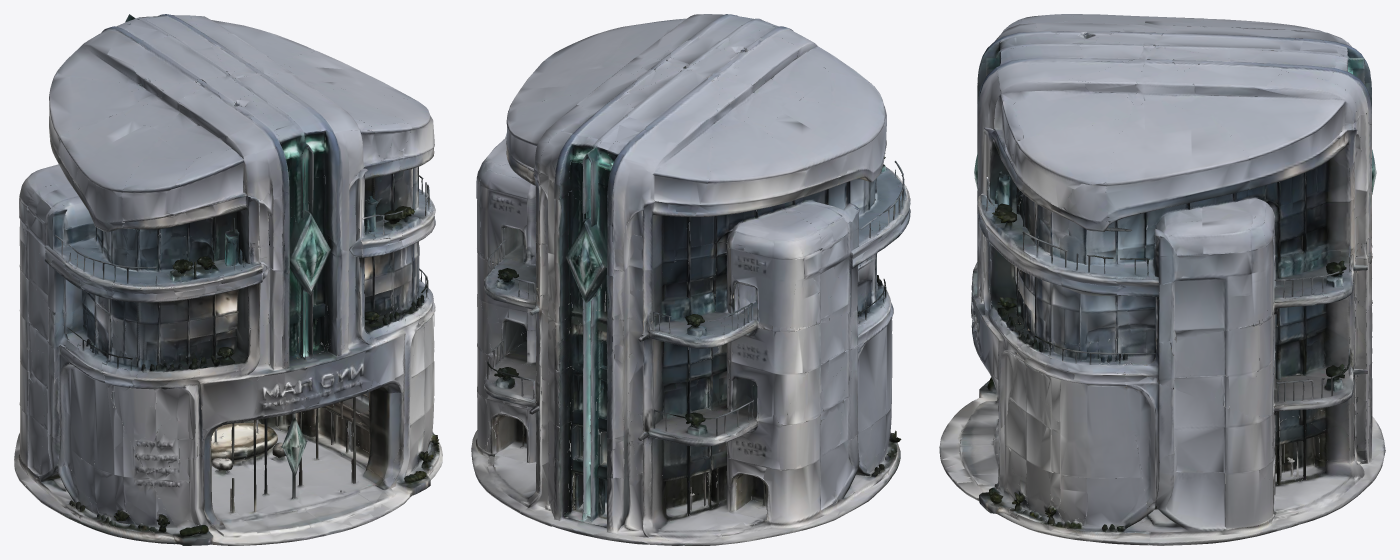
Rendered from gym_rt.glb.
3 renders of one model, left to right at view 1: azimuth 30°, elevation 25°; view 2: azimuth 150°, elevation 25°; view 3: azimuth 270°, elevation 25°, orthographic. The views are drawn at different scales.
Visible parts, largest first — view 1: tripo_node_28d57ff0-aafb-4f77-8650-d183aebf61d2; view 2: tripo_node_28d57ff0-aafb-4f77-8650-d183aebf61d2; view 3: tripo_node_28d57ff0-aafb-4f77-8650-d183aebf61d2.
Boxes of the visible parts, left/top/right/bottom form: tripo_node_28d57ff0-aafb-4f77-8650-d183aebf61d2: left=14, top=14, right=442, bottom=545; tripo_node_28d57ff0-aafb-4f77-8650-d183aebf61d2: left=471, top=14, right=910, bottom=545; tripo_node_28d57ff0-aafb-4f77-8650-d183aebf61d2: left=939, top=14, right=1385, bottom=545.
Size of the model in its own units: 0.979 by 0.9793 by 0.9726.
Materials: 1 (1 with a texture image).
